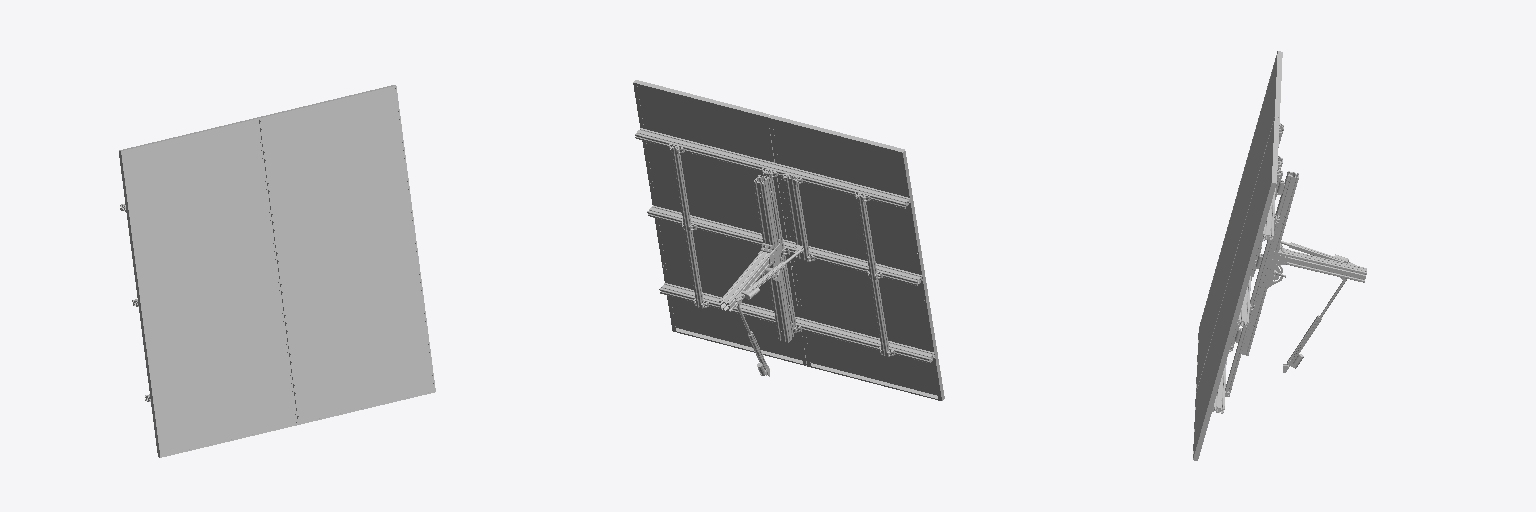
The model's file is Panel for Altitude.obj.
3 renders of one model, left to right at view 1: azimuth 30°, elevation 25°; view 2: azimuth 150°, elevation 25°; view 3: azimuth 270°, elevation 25°, orthographic.
Parts seen in each view (by area): view 1: default; view 2: default; view 3: default.
Part boxes in pixels (x1,y1,x2,y2): default: (119, 85, 435, 457); default: (633, 80, 944, 400); default: (1193, 51, 1366, 460).
Size of the model in its own units: 2086 by 2047 by 1154.